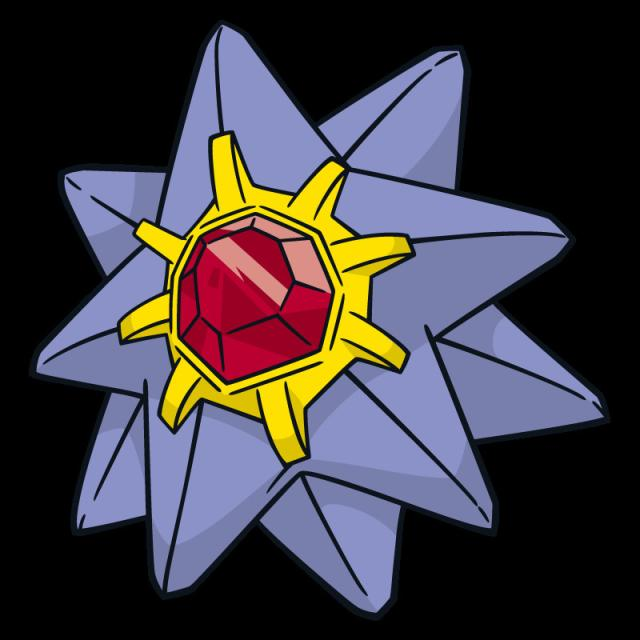Starmie: (45, 29, 558, 586)
